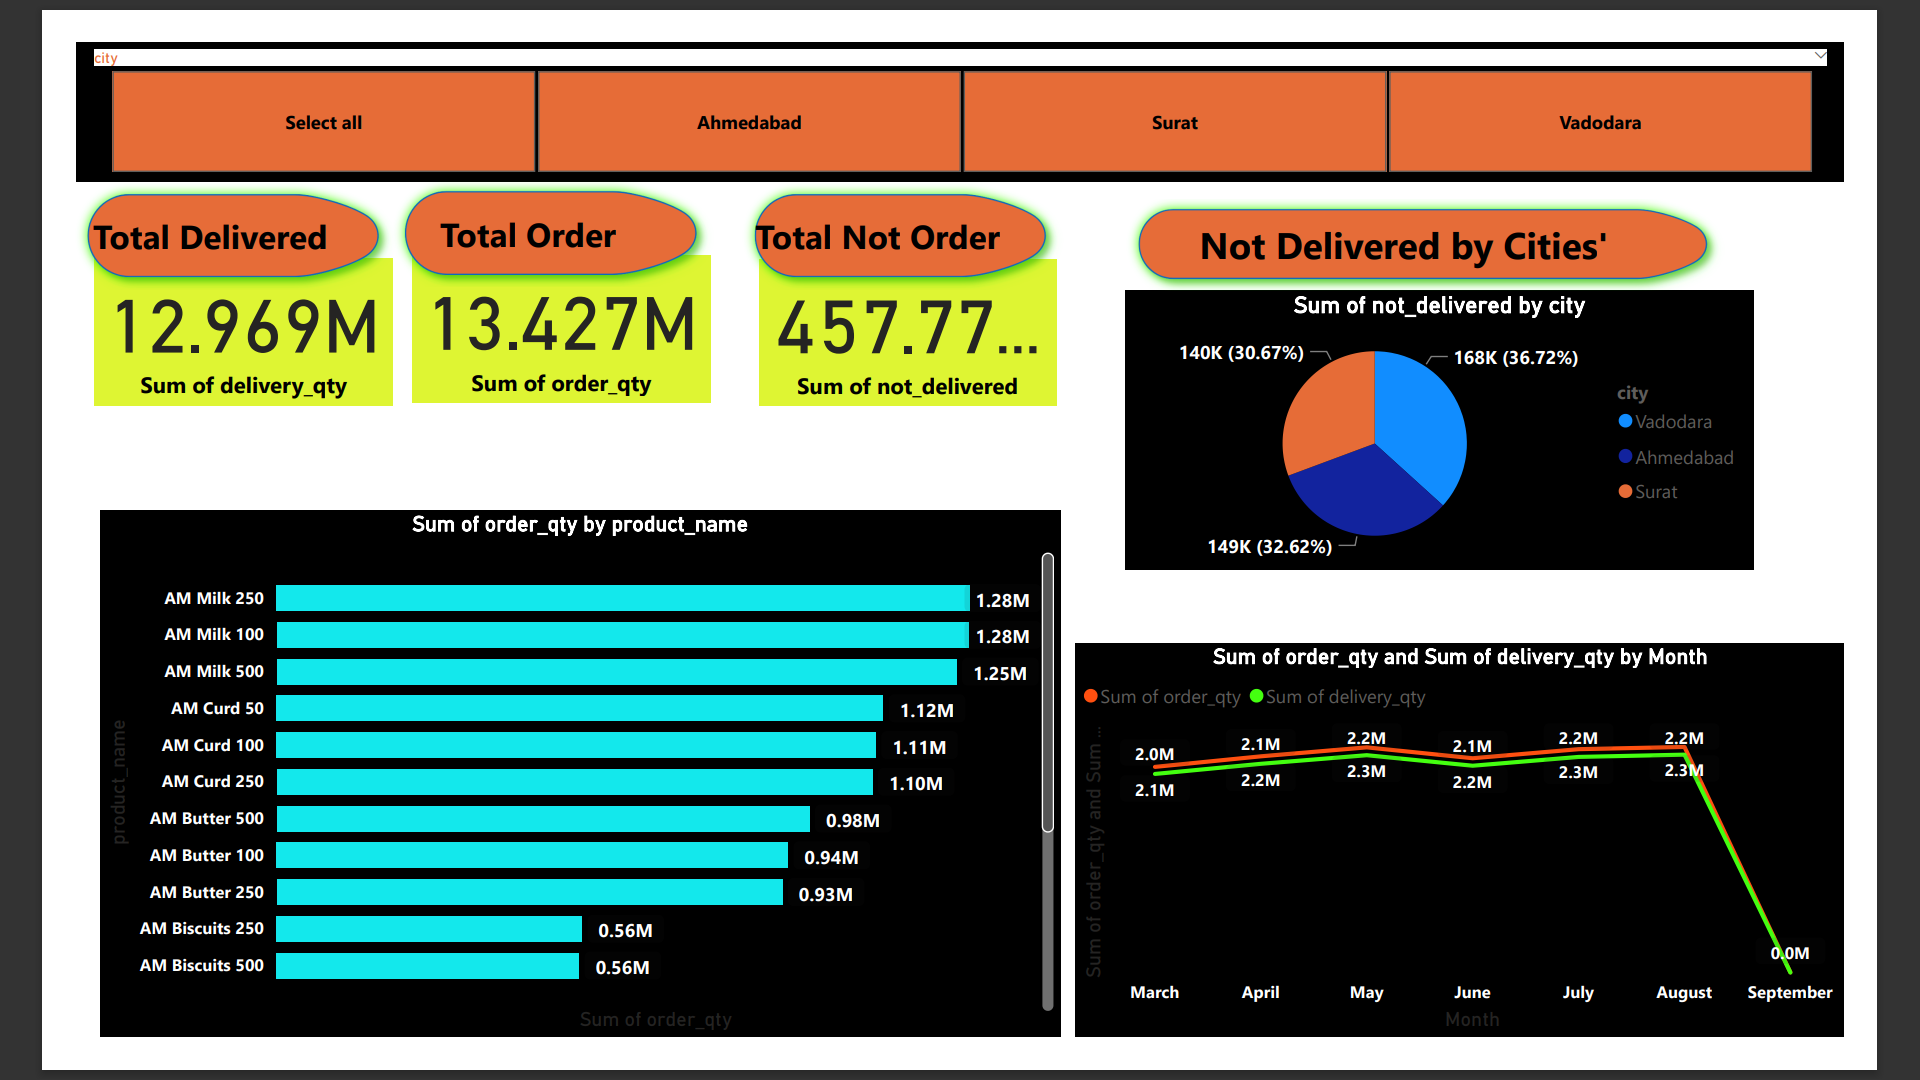

Layout of this report page (visuals, bound fields, positions):
{"tool":"powerbi","page":{"name":"Page 4","canvas":[1280,720],"ordinal":2},"visuals":[{"type":"card","fields":{"Values":["Sum(fact_order_lines.order_qty)"]},"box":[244.8,153.8,215.3,106.9],"z":0,"group":"g1"},{"type":"card","fields":{"Values":["Sum(fact_order_lines.delivery_qty)"]},"box":[14.5,156.6,215.3,106.9],"z":0,"group":"g3"},{"type":"card","fields":{"Values":["Sum(fact_order_lines.not_delivered)"]},"box":[494.1,157.9,215.3,105.6],"z":0,"group":"g4"},{"type":"barChart","fields":{"Category":["dim_products.product_name"],"Y":["Sum(fact_order_lines.order_qty)"]},"box":[17.8,338.6,695.1,381.2],"z":1},{"type":"pieChart","fields":{"Category":["dim_customers.city"],"Y":["Sum(fact_order_lines.not_delivered)"]},"box":[759.6,180,455.2,202],"z":2,"group":"g5"},{"type":"lineChart","fields":{"Y":["Sum(fact_order_lines.order_qty)","Sum(fact_order_lines.delivery_qty)"],"Category":["fact_order_lines.actual_delivery_date.Variation.Date Hierarchy.Month"]},"box":[723.9,434.6,556.6,285.2],"z":2},{"type":"slicer","fields":{"Values":["dim_customers.city"]},"box":[1.4,0,1279.2,101.5],"z":4},{"type":"group","id":"g1","title":"Group 1","box":[230.3,98.7,242.7,161.8],"z":8},{"type":"group","id":"g2","title":"Group 1","box":[0,101.5,242.7,161.8],"z":9},{"type":"group","id":"g3","title":"Group 2","box":[0,101.5,242.7,162],"z":10,"group":"g2"},{"type":"group","id":"g4","title":"Group 1","box":[482.6,101.5,242.7,161.8],"z":10},{"type":"group","id":"g5","title":"Group 2","box":[759.6,112.4,455.2,270.1],"z":11},{"type":"shape","box":[230.3,98.7,242.7,78.1],"z":1000,"group":"g1"},{"type":"shape","box":[0,101.5,242.7,78.1],"z":1000,"group":"g3"},{"type":"shape","box":[482.6,101.5,242.7,78.1],"z":1000,"group":"g4"},{"type":"shape","box":[760.2,112.4,441.1,68.1],"z":1001,"group":"g5"}]}

Visuals, with their boxes in screenshot pixels (x1, y1, x2, y2), scaled from the page's 1280x720 canvas onto the 1920x1080 screenshot:
card - Sum(fact_order_lines.order_qty): rect(367, 231, 690, 391)
card - Sum(fact_order_lines.delivery_qty): rect(22, 235, 345, 395)
card - Sum(fact_order_lines.not_delivered): rect(741, 237, 1064, 395)
barChart - dim_products.product_name x Sum(fact_order_lines.order_qty): rect(27, 508, 1069, 1079)
pieChart - dim_customers.city x Sum(fact_order_lines.not_delivered): rect(1139, 270, 1822, 573)
lineChart - Sum(fact_order_lines.order_qty) x Sum(fact_order_lines.delivery_qty): rect(1086, 652, 1919, 1079)
slicer - dim_customers.city: rect(2, 0, 1919, 152)
"Group 1" group: rect(345, 148, 710, 391)
"Group 1" group: rect(0, 152, 364, 395)
"Group 2" group: rect(0, 152, 364, 395)
"Group 1" group: rect(724, 152, 1088, 395)
"Group 2" group: rect(1139, 169, 1822, 574)
shape: rect(345, 148, 710, 265)
shape: rect(0, 152, 364, 269)
shape: rect(724, 152, 1088, 269)
shape: rect(1140, 169, 1802, 271)
